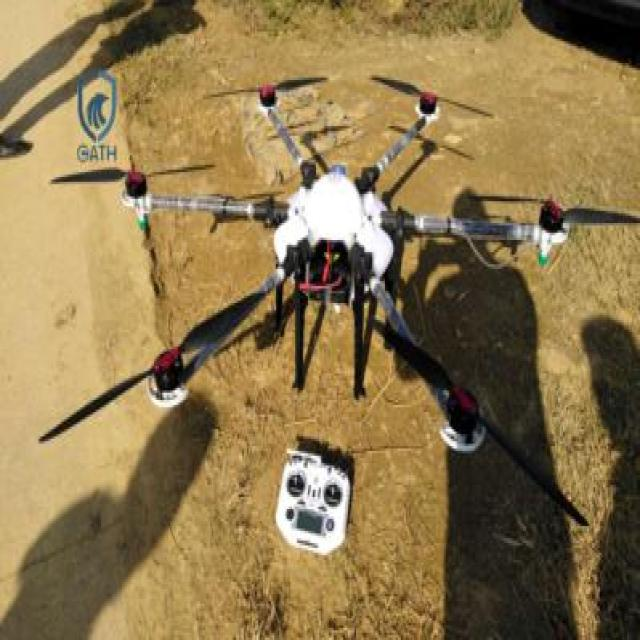drone: (34, 67, 640, 541)
